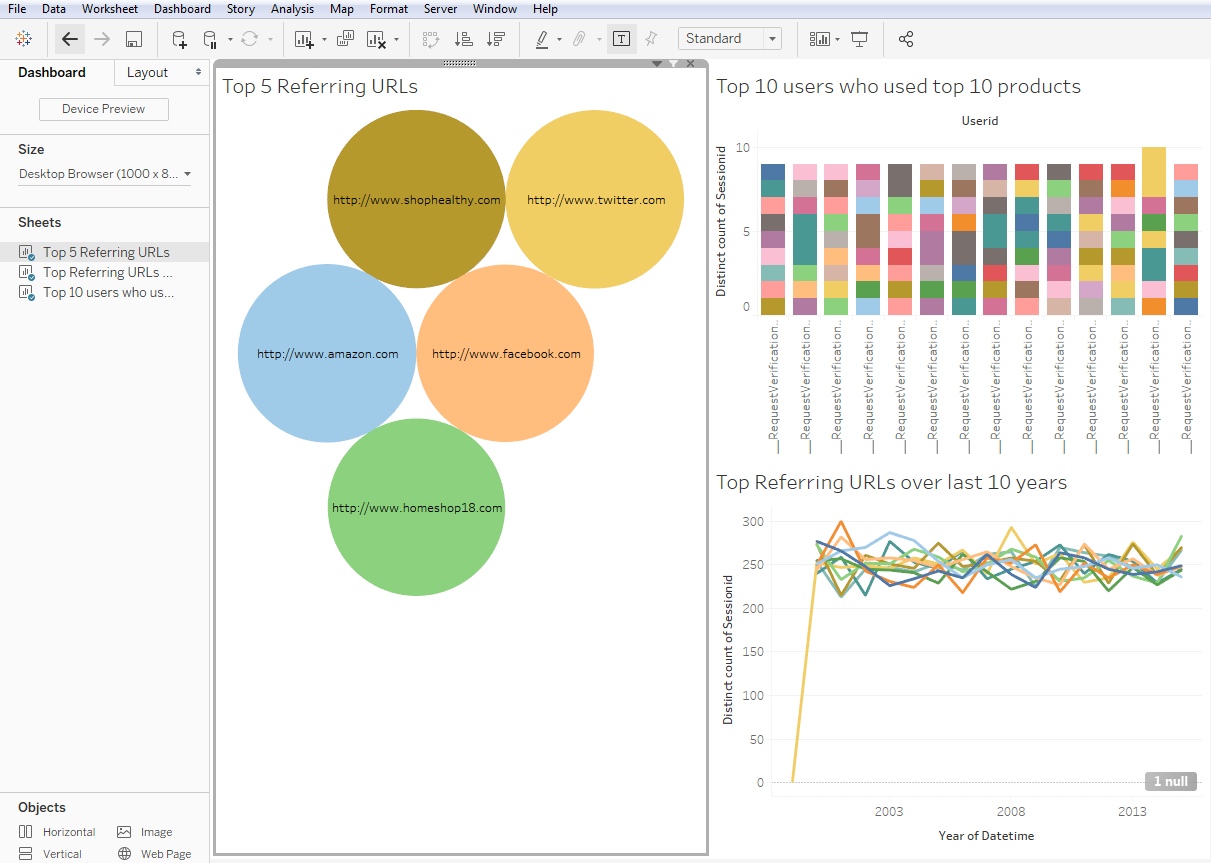

This screenshot's page, from the dashboard's own definition file:
{"tool":"tableau","page":{"name":"Dashboard 1","canvas":[1000,800],"ordinal":0},"visuals":[{"type":"worksheet","title":"Top 5 Referring URLs","mark":"Circle","box":[0,0,498,800]},{"type":"worksheet","title":"Top 10 users who used top 10 products","mark":"Automatic","rows":["sessionid"],"cols":["userid"],"box":[498,0,498,400]},{"type":"worksheet","title":"Top Referring URLs over last 10 years","mark":"Automatic","rows":["sessionid"],"cols":["datetime"],"box":[498,400,498,400]}]}

Visuals, with their boxes on the page's 1000x800 design canvas (x1, y1, x2, y2). These are canvas units, not pixel positions in the 1211x863 screenshot, which may show the page scaled, cropped or inside an application window:
"Top 5 Referring URLs" worksheet (Circle marks): box(0, 0, 498, 800)
"Top 10 users who used top 10 products" worksheet: box(498, 0, 996, 400)
"Top Referring URLs over last 10 years" worksheet: box(498, 400, 996, 800)
